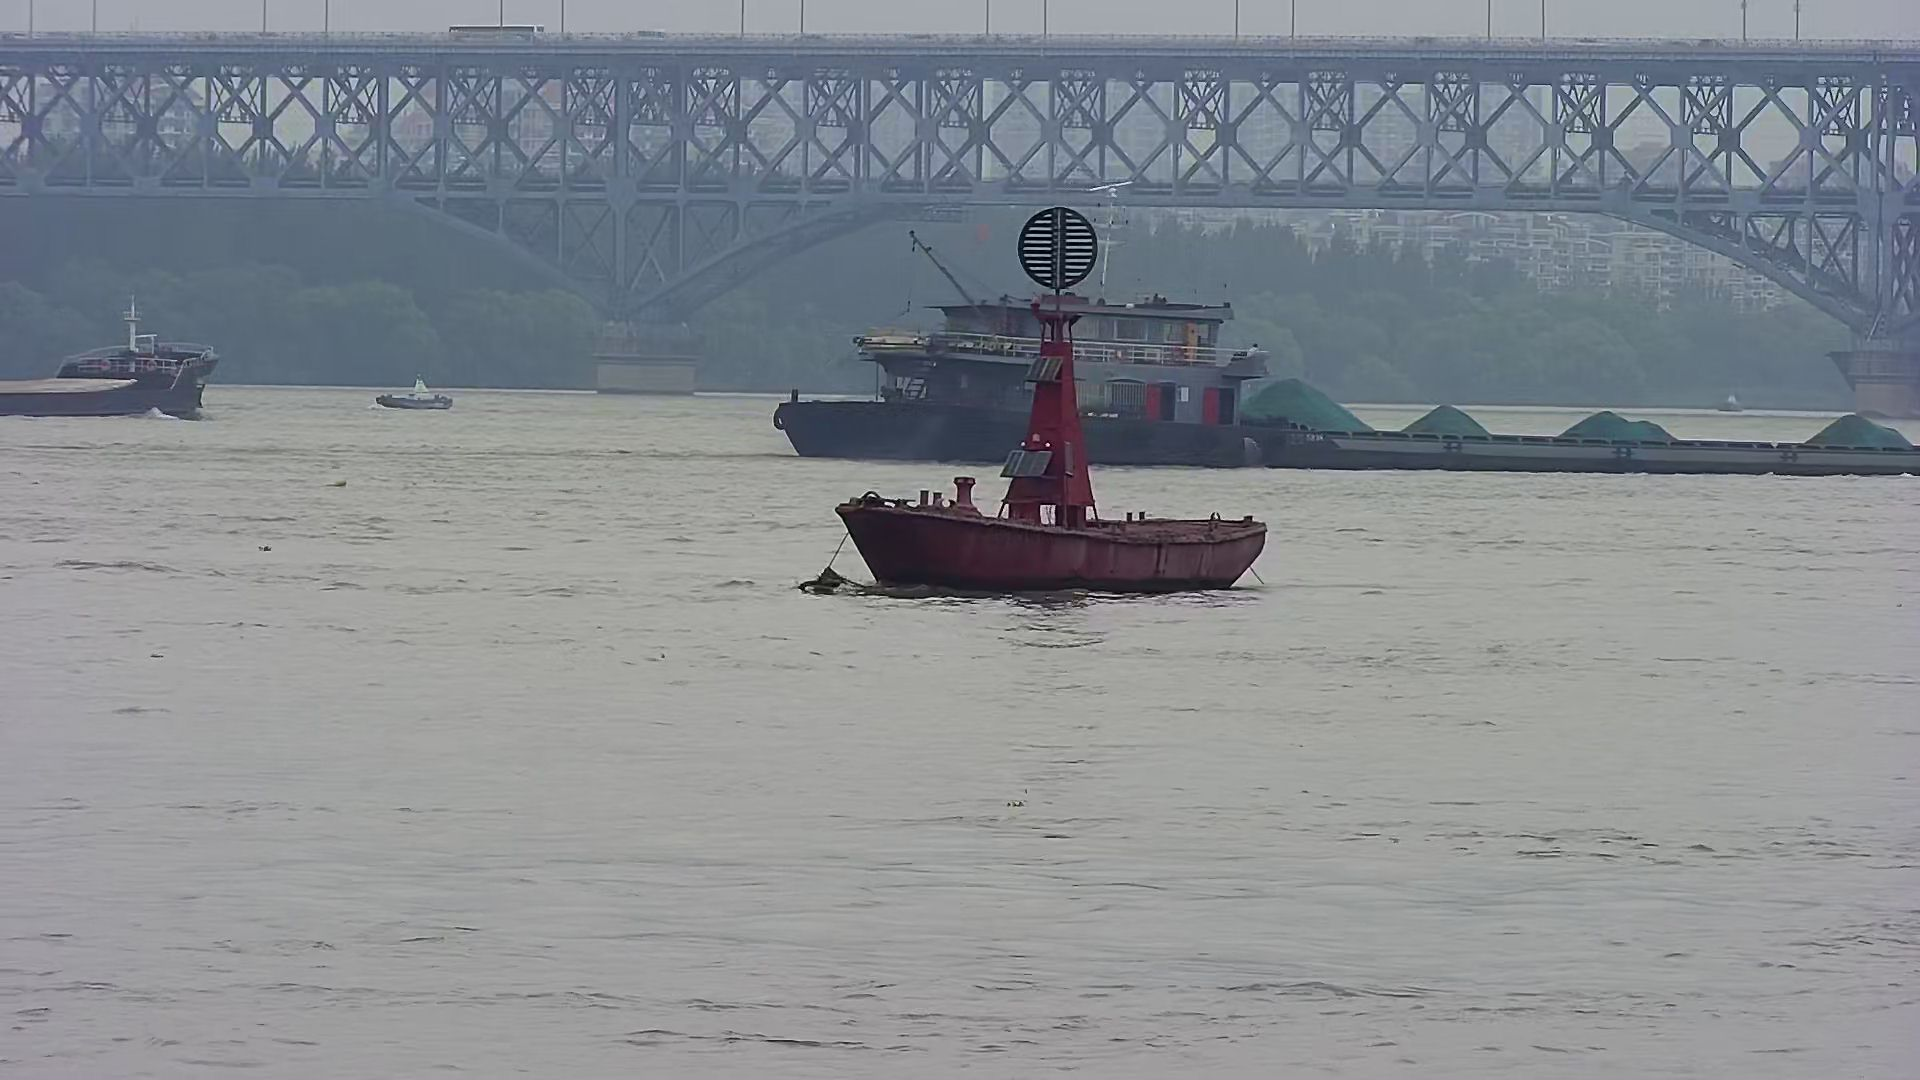boat: (829, 207, 1280, 597), (365, 372, 464, 419), (1708, 382, 1753, 418)
bridge: (1, 32, 1909, 415)
ship: (778, 171, 1887, 465), (1, 291, 229, 425)
